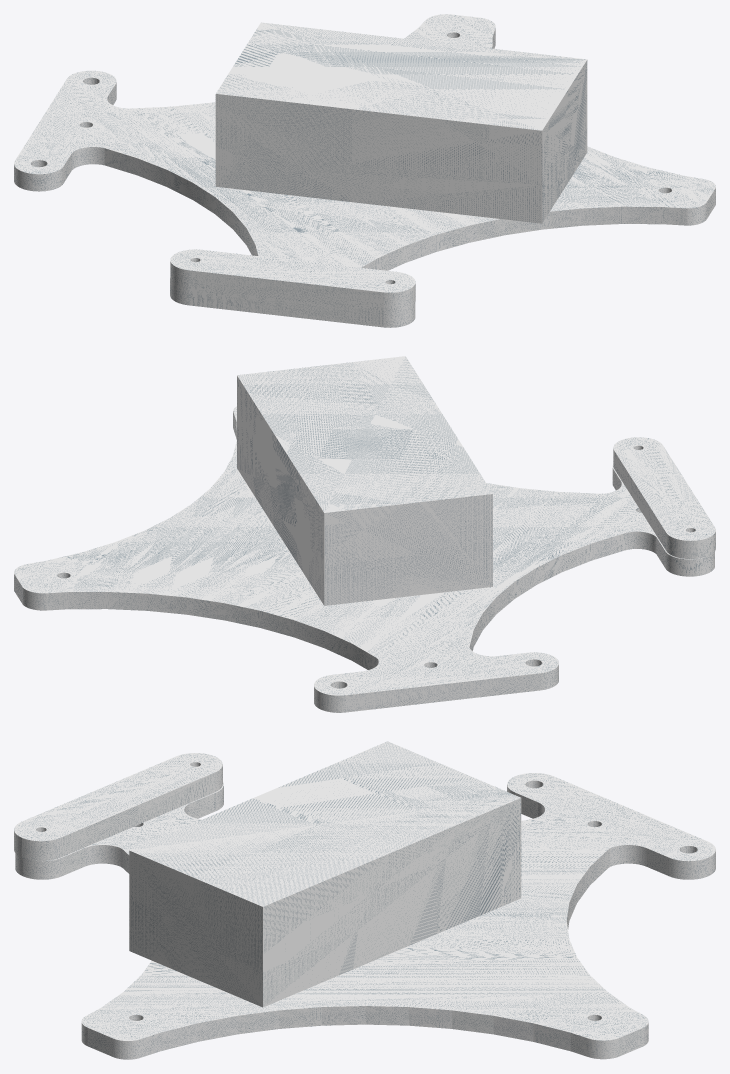
File: Sled.dae
The picture shows the model from 3 angles, top to bottom: view 1: azimuth 30°, elevation 25°; view 2: azimuth 150°, elevation 25°; view 3: azimuth 270°, elevation 25°; orthographic projection. The views are drawn at different scales.
Visible parts, largest first — view 1: group_0, group_1, group_2; view 2: group_1, group_0, group_2; view 3: group_0, group_1, group_2.
Boxes of the visible parts, bbox=[...] form: group_0: bbox=[215, 22, 587, 223]; group_1: bbox=[14, 14, 715, 327]; group_2: bbox=[170, 249, 415, 310]; group_1: bbox=[14, 406, 714, 712]; group_0: bbox=[237, 356, 492, 605]; group_2: bbox=[613, 437, 715, 558]; group_0: bbox=[129, 741, 521, 1007]; group_1: bbox=[15, 773, 715, 1059]; group_2: bbox=[14, 753, 222, 860].
Size of the model in its own units: 13.75 by 15.2 by 2.85.
